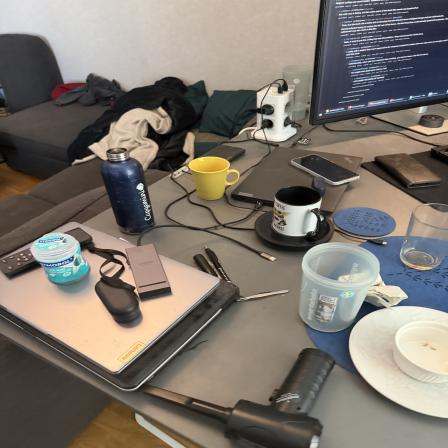blue_bottle: (98, 145, 162, 235)
phone: (374, 152, 442, 192), (290, 152, 365, 186), (197, 144, 256, 166)
yellow_cup: (188, 157, 244, 201)
